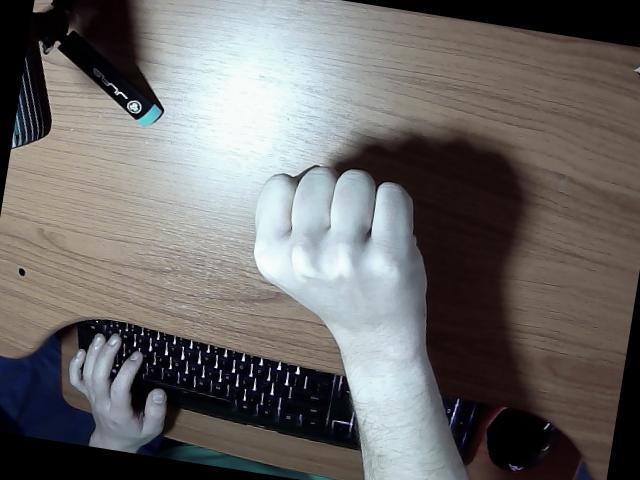rock: (255, 167, 467, 480)
